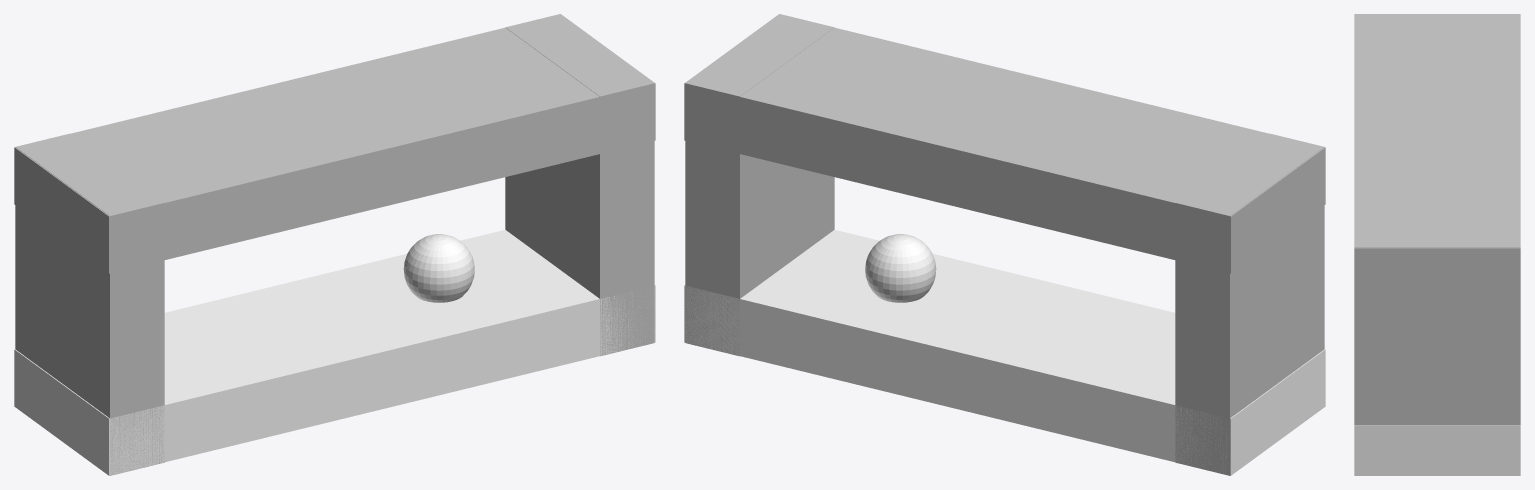
File: TestObject.obj
3 renders of one model, left to right at view 1: azimuth 30°, elevation 25°; view 2: azimuth 150°, elevation 25°; view 3: azimuth 270°, elevation 25°, orthographic. The views are drawn at different scales.
Visible parts, largest first — view 1: Sphere; view 2: Sphere; view 3: Sphere.
Part boxes in pixels (<box>): Sphere: <box>14,14,655,475</box>; Sphere: <box>684,14,1325,475</box>; Sphere: <box>1354,14,1520,475</box>.
Bounding box in the file's own units: 2 × 0.9088 × 0.6.
Materials: 4 (1 with a texture image).
